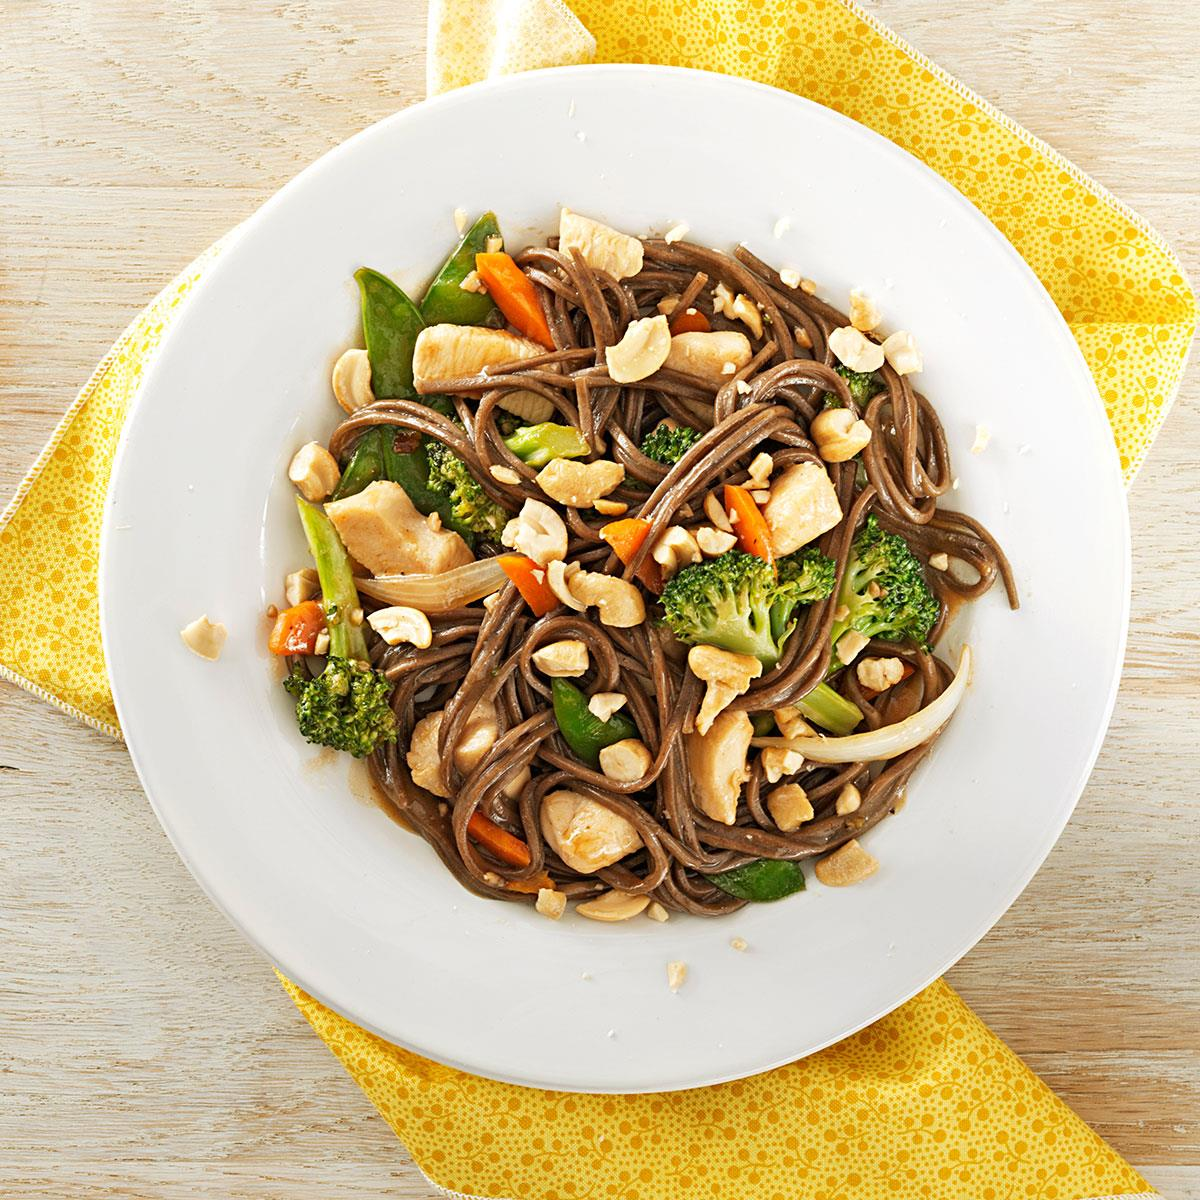Soba: (262, 219, 1076, 949)
